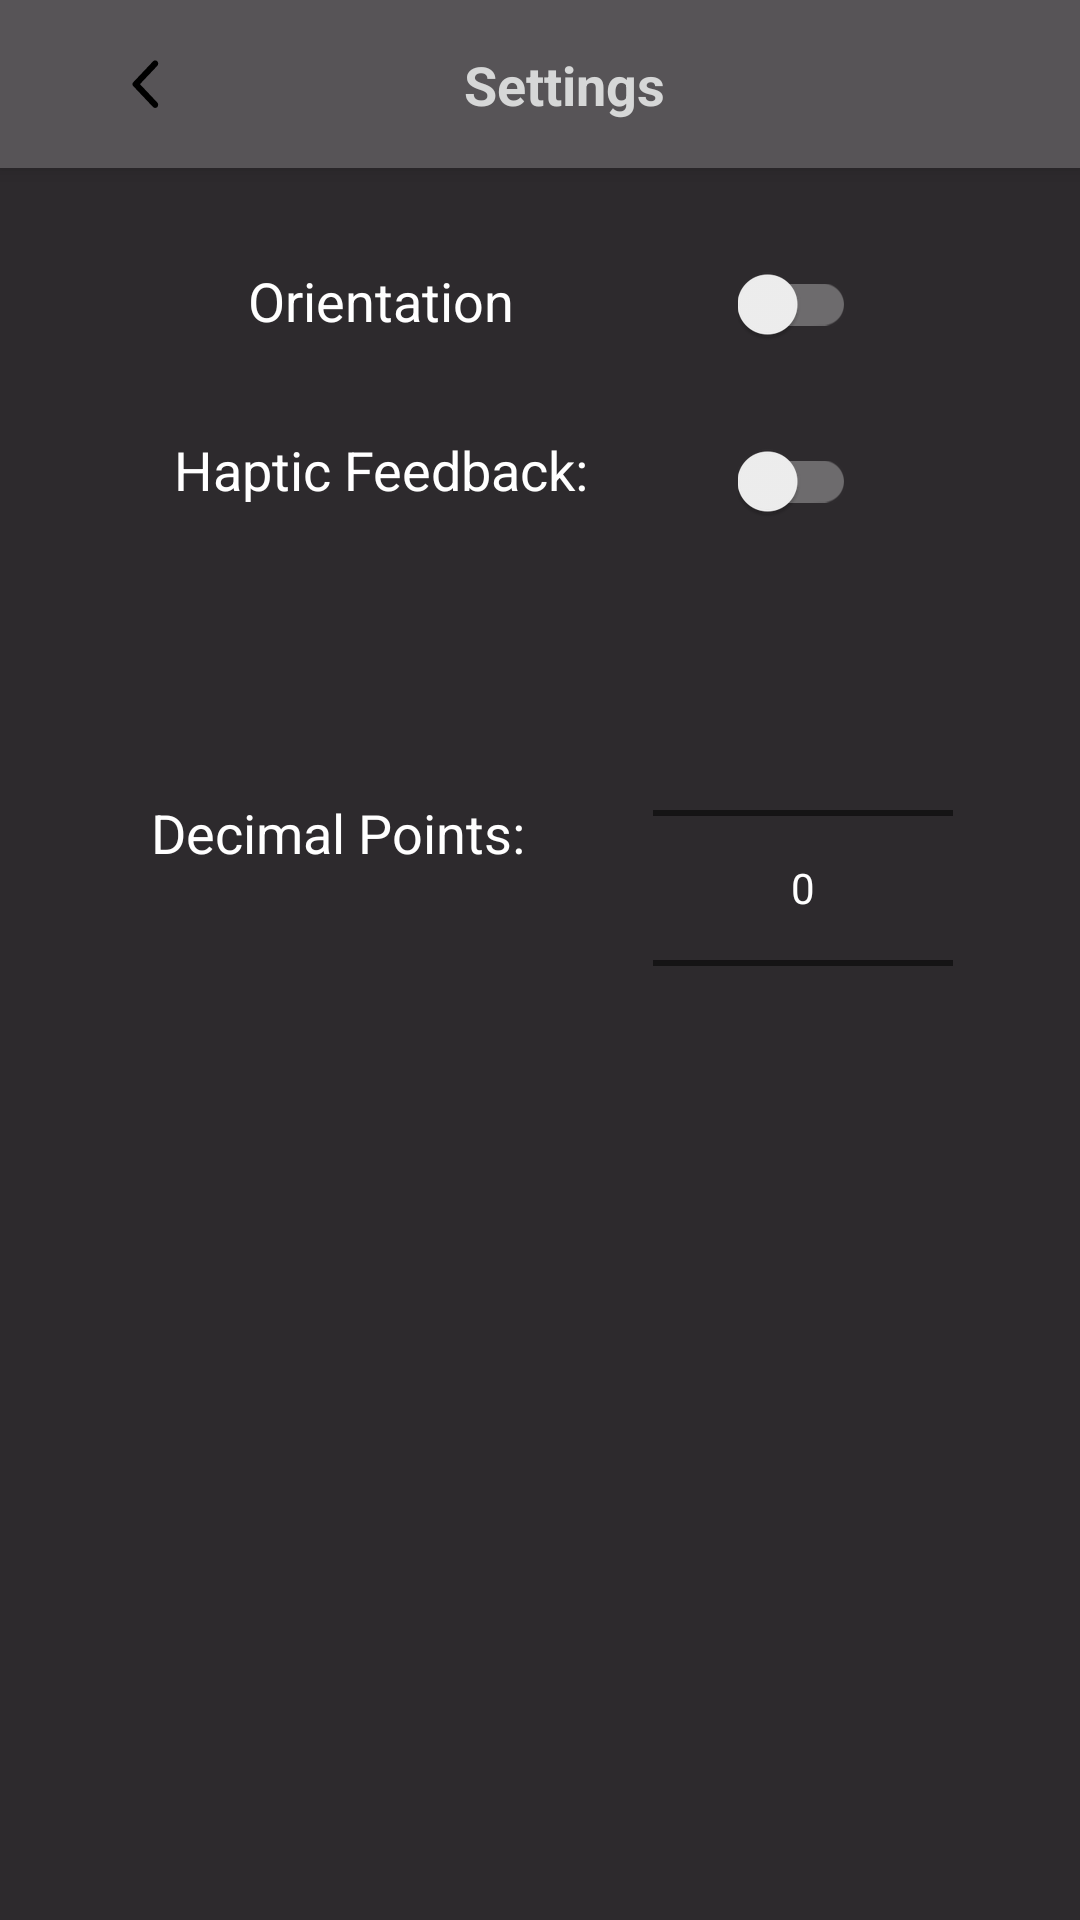

Point at icon controls on the screen. Image size 1080*1920, points as (x=x, y=y).
back: (x=145, y=84)
